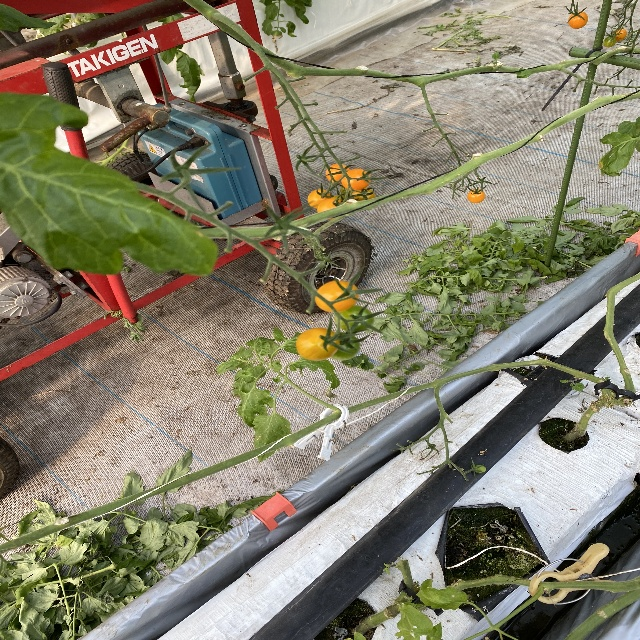l_green: (334, 305, 374, 332), (330, 331, 361, 361), (603, 36, 618, 47)
l_half_ripened: (296, 327, 340, 361), (314, 280, 359, 313), (341, 169, 371, 191), (326, 163, 350, 184), (308, 189, 331, 209), (317, 198, 342, 213), (568, 11, 588, 29), (351, 188, 375, 201), (467, 189, 485, 203), (611, 28, 627, 41)
